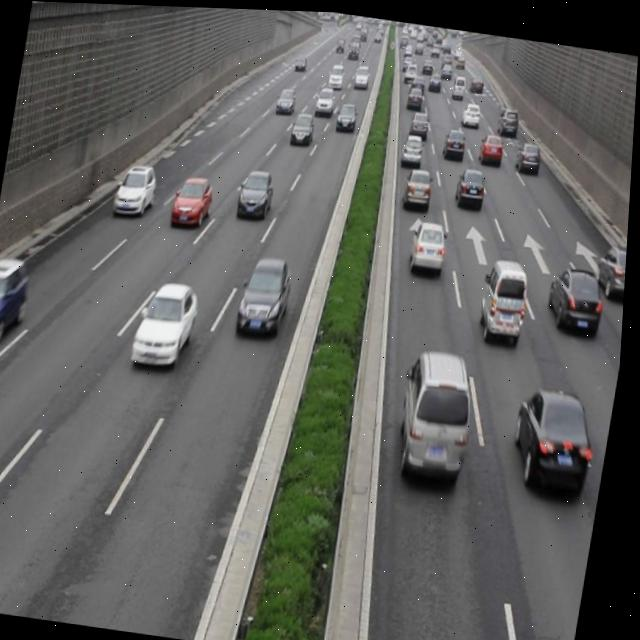car: (510, 379, 601, 488), (133, 273, 204, 370), (237, 251, 299, 335), (546, 258, 609, 331), (0, 254, 34, 351), (114, 158, 160, 218), (171, 169, 217, 227), (237, 165, 280, 220), (410, 214, 451, 271), (595, 237, 630, 294), (402, 160, 436, 209), (454, 162, 489, 208), (289, 107, 317, 145), (514, 135, 543, 170), (441, 122, 469, 158), (479, 126, 506, 163), (401, 128, 426, 163)
truck: (396, 341, 484, 476), (478, 252, 532, 335)
